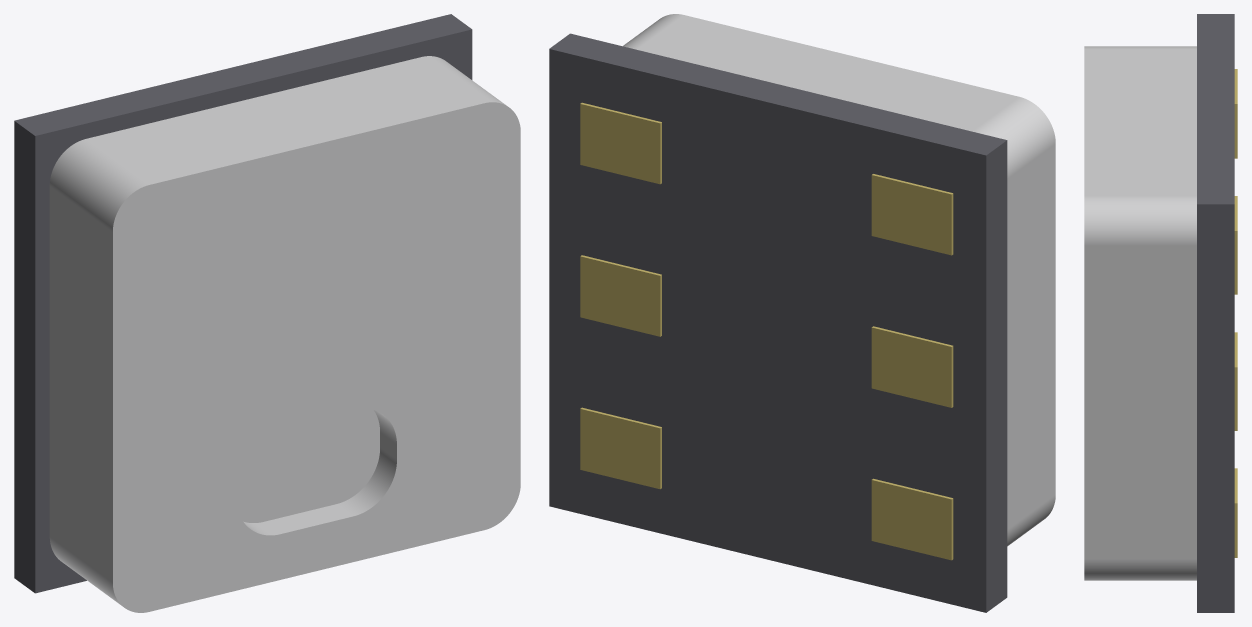
The model's file is aht30.glb.
3 views of the same model, side by side, from view 1: azimuth 30°, elevation 25°; view 2: azimuth 150°, elevation 25°; view 3: azimuth 270°, elevation 25° (orthographic). The views are drawn at different scales.
Parts seen in each view (by area): view 1: housing, extra; view 2: extra, housing, pins; view 3: housing, extra, pins.
Boxes of the visible parts, x1=… form: housing: x1=49, y1=56, x2=520, y2=612; extra: x1=14, y1=14, x2=472, y2=593; extra: x1=549, y1=33, x2=1007, y2=612; housing: x1=623, y1=14, x2=1055, y2=546; pins: x1=580, y1=102, x2=953, y2=560; housing: x1=1084, y1=46, x2=1196, y2=580; extra: x1=1197, y1=14, x2=1234, y2=612; pins: x1=1234, y1=69, x2=1237, y2=557.
Bounding box in the file's own units: 3 × 3 × 1.02.
